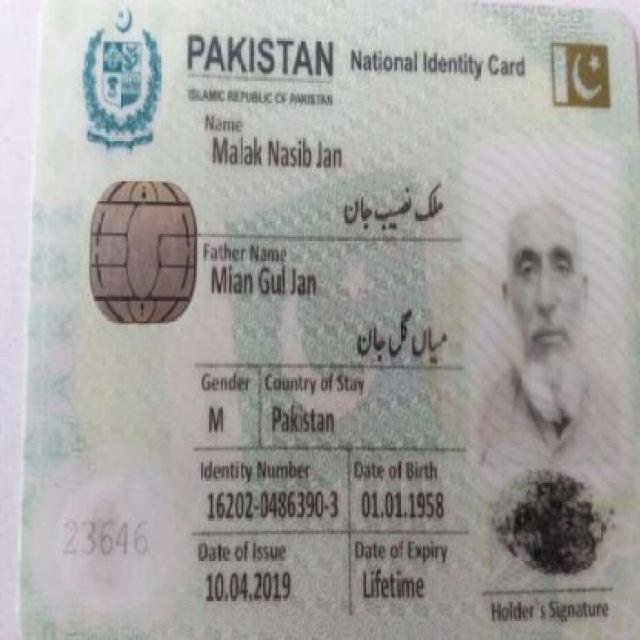Front: (31, 5, 631, 628)
